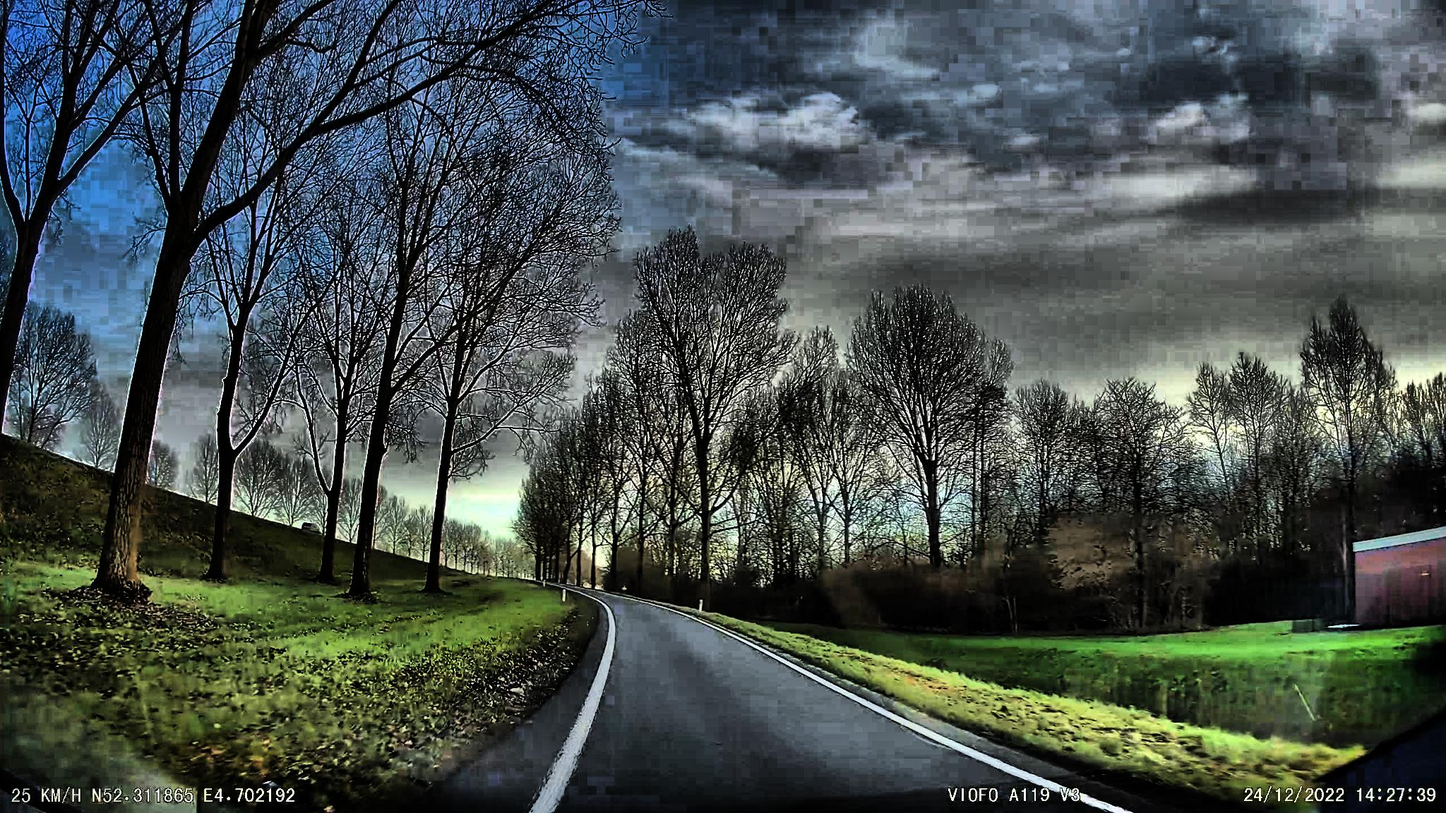Roads: (397, 595, 1256, 813)
